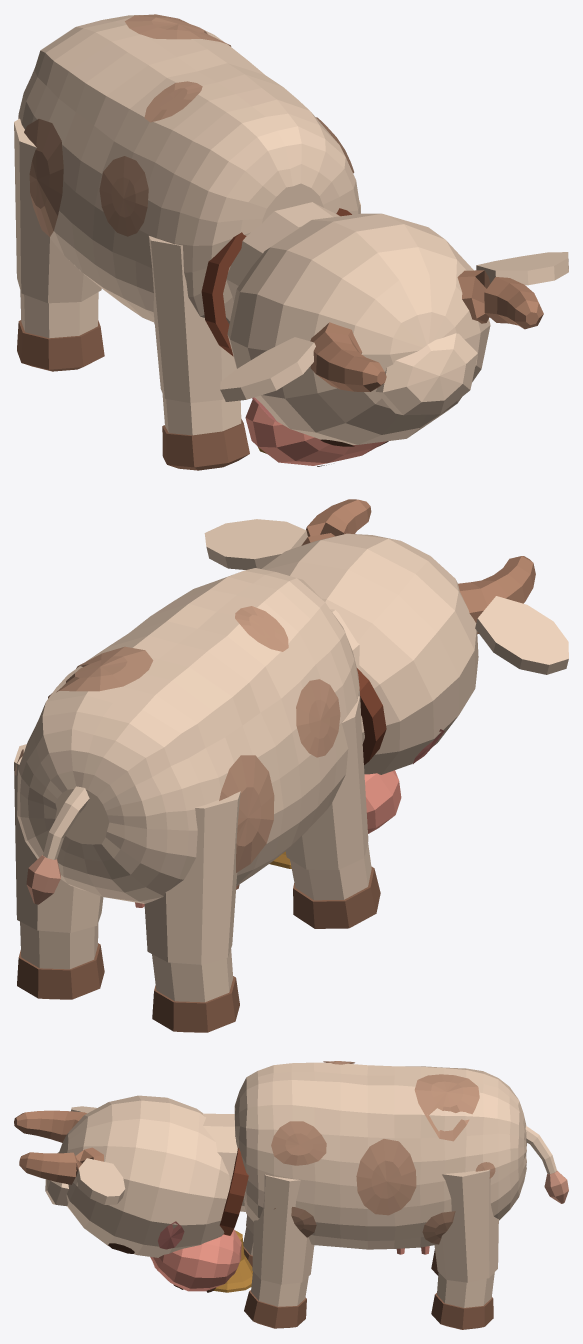
The model's file is cow-feeding.glb.
3 views of the same model, one above another, from view 1: azimuth 30°, elevation 25°; view 2: azimuth 150°, elevation 25°; view 3: azimuth 270°, elevation 25° (orthographic). The views are drawn at different scales.
Visible parts, largest first — view 1: body, head, body_patches, leg_fl_upper, leg_hl_upper, horn_l, muzzle, ear_r, horn_r, leg_fl_hoof, leg_hl_hoof, neck (+4 smaller); view 2: body, head, body_patches, leg_hl_upper, leg_fl_upper, ear_r, leg_hr_upper, ear_l, leg_hl_lower, leg_hr_lower, leg_hl_hoof, leg_hr_hoof (+8 smaller); view 3: body, head, body_patches, leg_hr_upper, leg_fr_upper, muzzle, horn_l, ear_l, horn_r, leg_hr_lower, leg_hr_hoof, leg_fr_hoof (+7 smaller).
Boxes of the visible parts, x1=… form: body: x1=18, y1=15, x2=360, y2=323; head: x1=227, y1=213, x2=490, y2=444; body_patches: x1=24, y1=14, x2=354, y2=236; leg_fl_upper: x1=148, y1=236, x2=236, y2=402; leg_hl_upper: x1=14, y1=118, x2=101, y2=303; horn_l: x1=457, y1=270, x2=543, y2=329; muzzle: x1=245, y1=399, x2=386, y2=465; ear_r: x1=220, y1=337, x2=315, y2=401; horn_r: x1=310, y1=322, x2=386, y2=391; leg_fl_hoof: x1=162, y1=419, x2=249, y2=470; leg_hl_hoof: x1=17, y1=320, x2=104, y2=371; neck: x1=226, y1=202, x2=339, y2=301; body: x1=17, y1=568, x2=360, y2=903; head: x1=262, y1=533, x2=478, y2=774; body_patches: x1=15, y1=606, x2=340, y2=872; leg_hl_upper: x1=144, y1=791, x2=240, y2=964; leg_fl_upper: x1=285, y1=696, x2=368, y2=869; ear_r: x1=475, y1=596, x2=568, y2=674; leg_hr_upper: x1=14, y1=744, x2=103, y2=932; ear_l: x1=204, y1=519, x2=307, y2=569; leg_hl_lower: x1=152, y1=949, x2=233, y2=1002; leg_hr_lower: x1=20, y1=921, x2=98, y2=969; leg_hl_hoof: x1=152, y1=976, x2=239, y2=1032; leg_hr_hoof: x1=17, y1=943, x2=104, y2=999; body: x1=234, y1=1062, x2=526, y2=1249; head: x1=45, y1=1095, x2=240, y2=1257; body_patches: x1=271, y1=1061, x2=495, y2=1244; leg_hr_upper: x1=434, y1=1169, x2=498, y2=1282; leg_fr_upper: x1=252, y1=1174, x2=314, y2=1284; muzzle: x1=150, y1=1229, x2=241, y2=1291; horn_l: x1=19, y1=1147, x2=103, y2=1184; ear_l: x1=76, y1=1158, x2=125, y2=1204; horn_r: x1=14, y1=1110, x2=86, y2=1142; leg_hr_lower: x1=437, y1=1272, x2=494, y2=1307; leg_hr_hoof: x1=431, y1=1293, x2=493, y2=1329; leg_fr_hoof: x1=244, y1=1290, x2=306, y2=1328.
Size of the model in its own units: 1.5 by 1.34 by 2.94.
